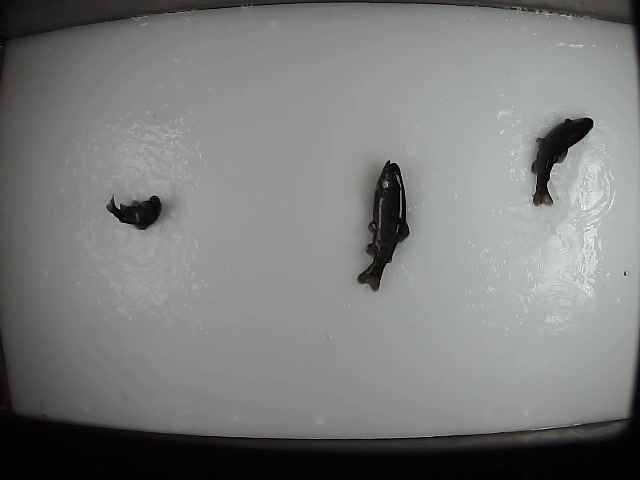fish: (356, 158, 414, 292), (527, 114, 598, 208), (106, 190, 162, 232)
